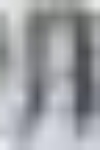L_RUS: (0, 0, 99, 149)
